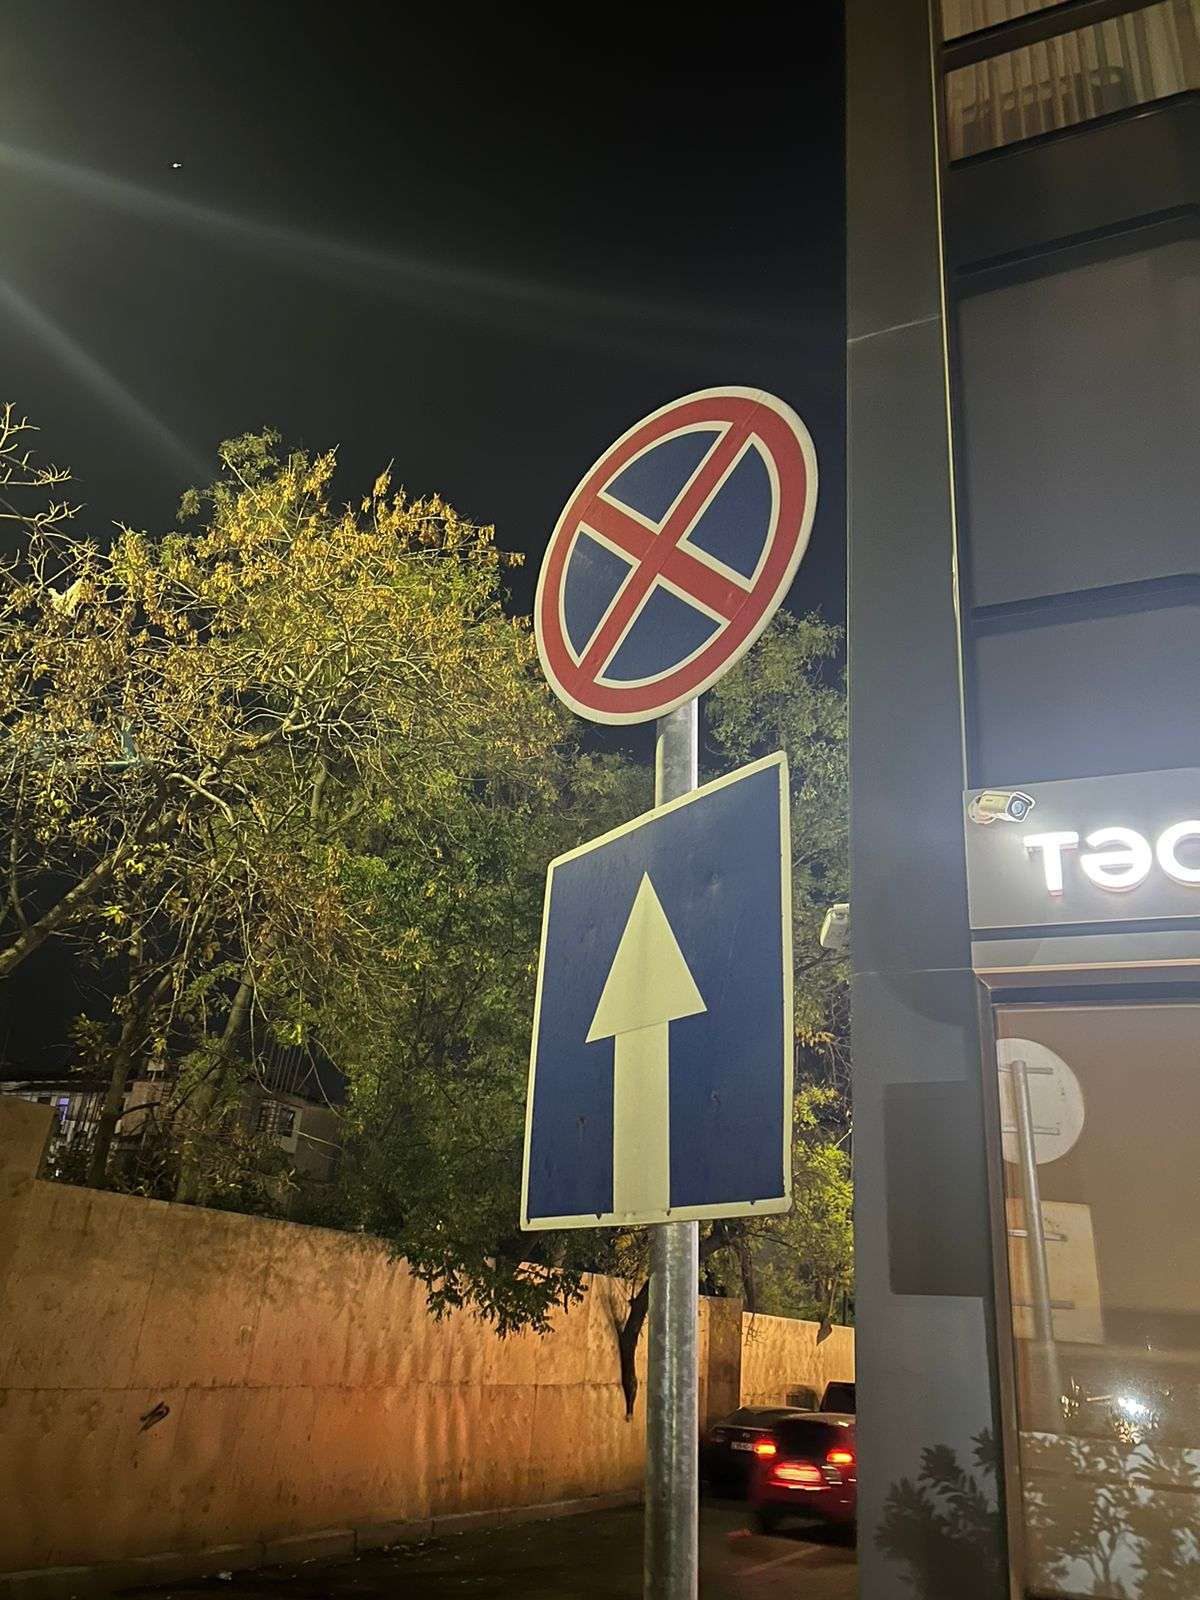No Parking: (524, 386, 811, 724)
